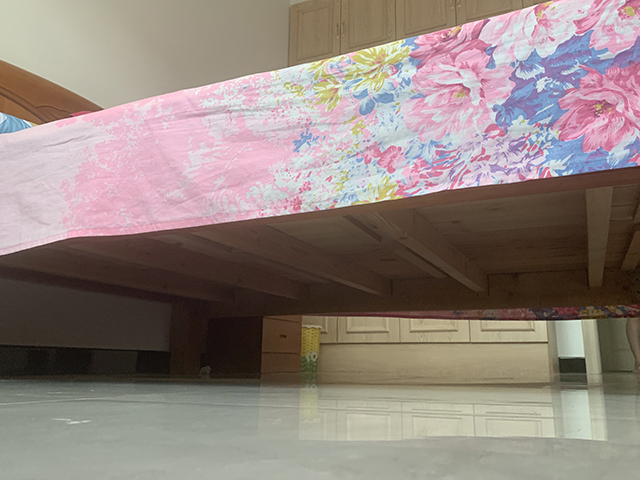bed: (1, 1, 640, 380)
cabinet: (207, 313, 302, 379)
trashcan: (302, 324, 327, 373)
